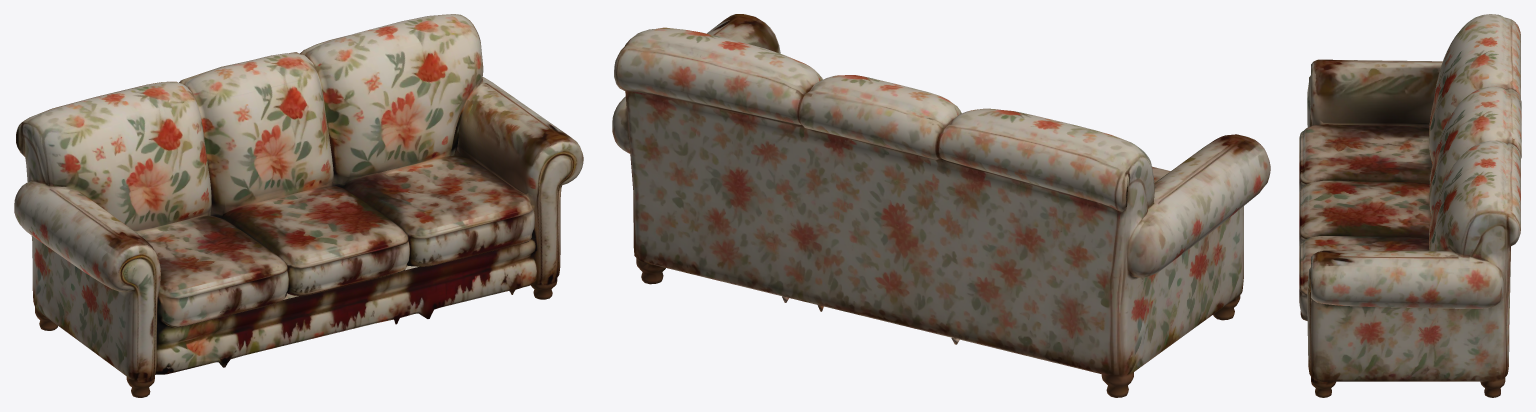
The model's file is old_cheap_couch_with_a_bad_floral_pattern_53278f1b_v4.glb.
3 renders of one model, left to right at view 1: azimuth 30°, elevation 25°; view 2: azimuth 150°, elevation 25°; view 3: azimuth 270°, elevation 25°, orthographic. The views are drawn at different scales.
Parts seen in each view (by area): view 1: material; view 2: material; view 3: material.
Boxes of the visible parts, bbox=[...] form: material: bbox=[14, 14, 583, 397]; material: bbox=[612, 14, 1270, 397]; material: bbox=[1299, 14, 1521, 397].
Bounding box in the file's own units: 1.9 × 0.8299 × 0.8299.
Materials: 1 (1 with a texture image).
